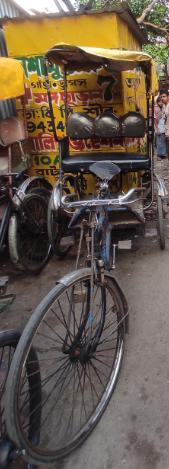Auto: (9, 38, 164, 466)
